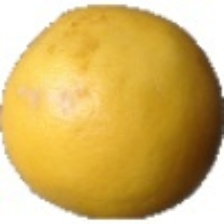grapes: (5, 5, 206, 184)
